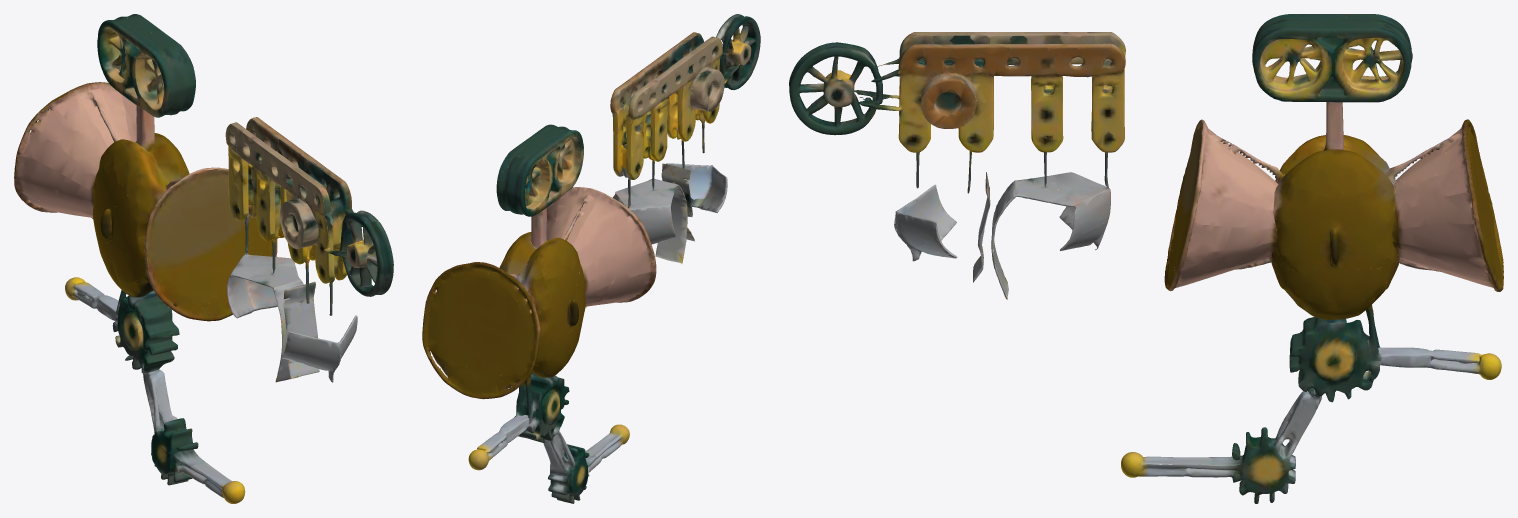
The model's file is machineTop1.glb.
3 renders of one model, left to right at view 1: azimuth 30°, elevation 25°; view 2: azimuth 150°, elevation 25°; view 3: azimuth 270°, elevation 25°, orthographic. The views are drawn at different scales.
Parts seen in each view (by area): view 1: tripo_node_87a756e1-b3e1-49b2-9bcd-366e896153b9; view 2: tripo_node_87a756e1-b3e1-49b2-9bcd-366e896153b9; view 3: tripo_node_87a756e1-b3e1-49b2-9bcd-366e896153b9.
Part boxes in pixels (x1,y1,x2,y2): tripo_node_87a756e1-b3e1-49b2-9bcd-366e896153b9: (14,14,393,503); tripo_node_87a756e1-b3e1-49b2-9bcd-366e896153b9: (422,14,760,503); tripo_node_87a756e1-b3e1-49b2-9bcd-366e896153b9: (789,14,1503,503).
Size of the model in its own units: 1.24 by 3.88 by 5.25.
Materials: 1 (1 with a texture image).
